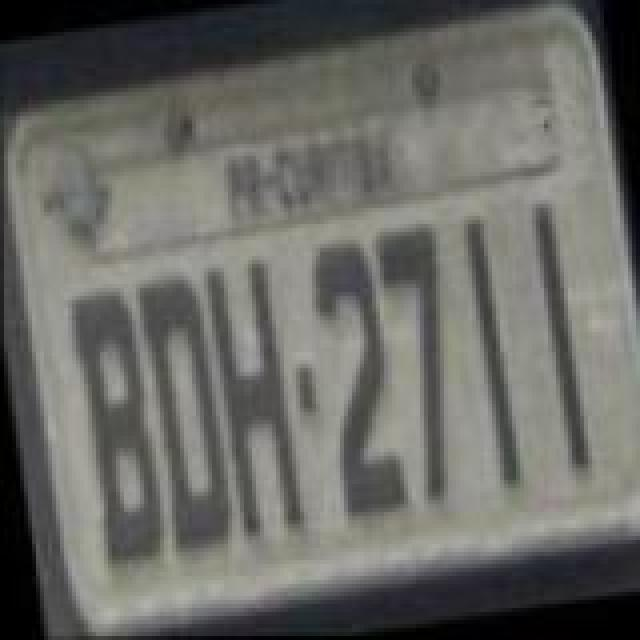1: (460, 208, 520, 496), (532, 200, 592, 476)
2: (304, 234, 408, 526)
7: (372, 224, 472, 508)
B: (64, 282, 168, 570)
D: (132, 268, 236, 556)
H: (200, 256, 304, 544)
